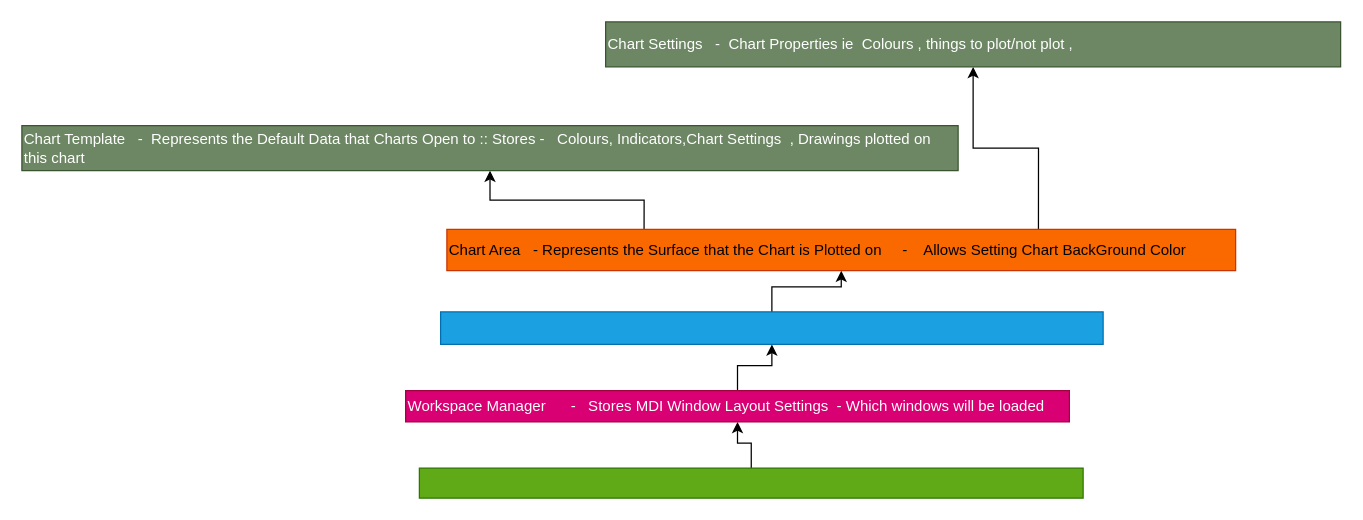
This 1363x520 diagram has some shape labels left out. The centre of each missing label's shape, as x and y in pixels:
J Desktop Pane - MDI Container Holder: (x=750, y=482)
Modern Docking - Allow Chart MDI Windows to be docked, resized and popped out: (x=771, y=327)
